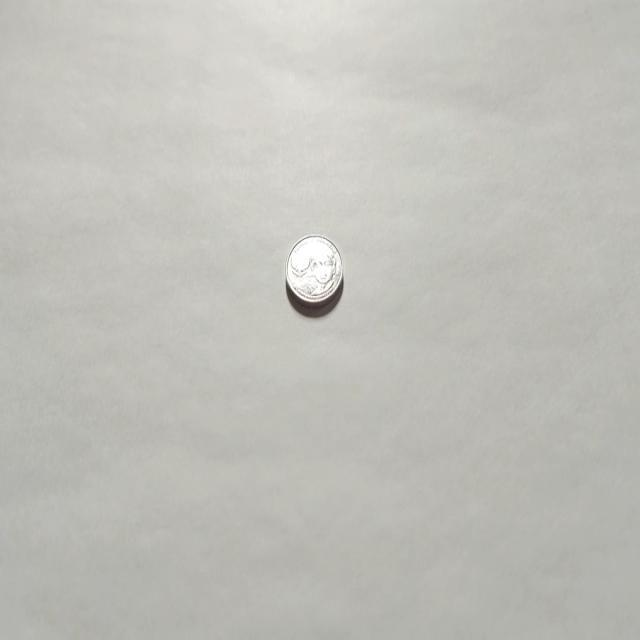dua ratus rupiah: (284, 232, 344, 310)
